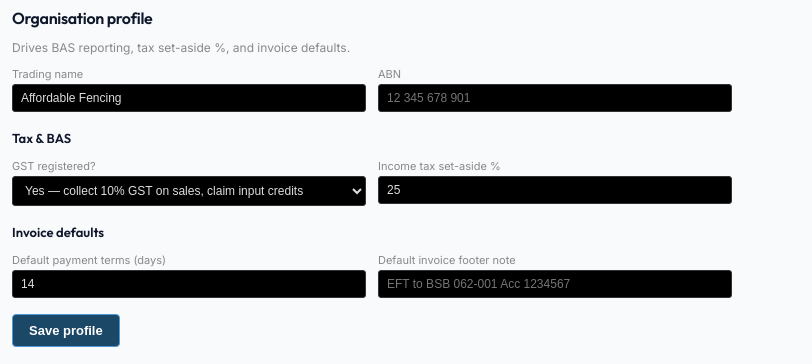
Scenario: OrgProfileForm › surfaces a categorized save action error instead of the raw message
The width and height of the screenshot is (812, 364).
Click the button "Save profile": (66, 330) [12,314,120,347]
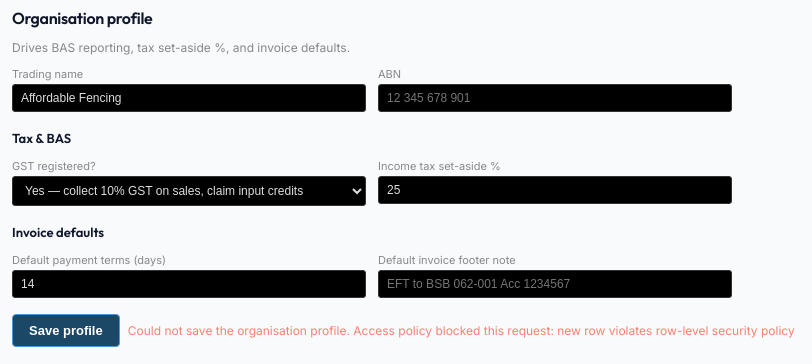
Now the text "Could not save the organisation profile. Access policy blocked this request" is shown, box [128,323,795,338]
